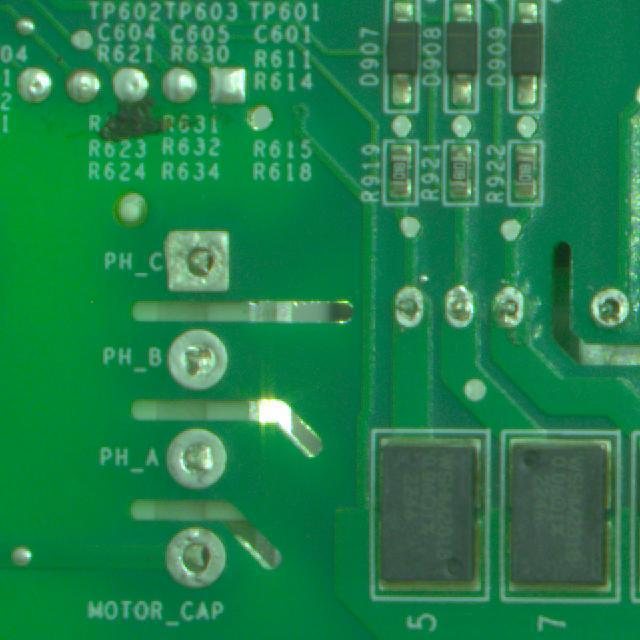Insufficient solder: (158, 219, 240, 297), (163, 420, 242, 498), (161, 324, 239, 397), (166, 522, 233, 600), (437, 273, 477, 339), (583, 279, 635, 328), (388, 282, 429, 330), (488, 285, 528, 334)
